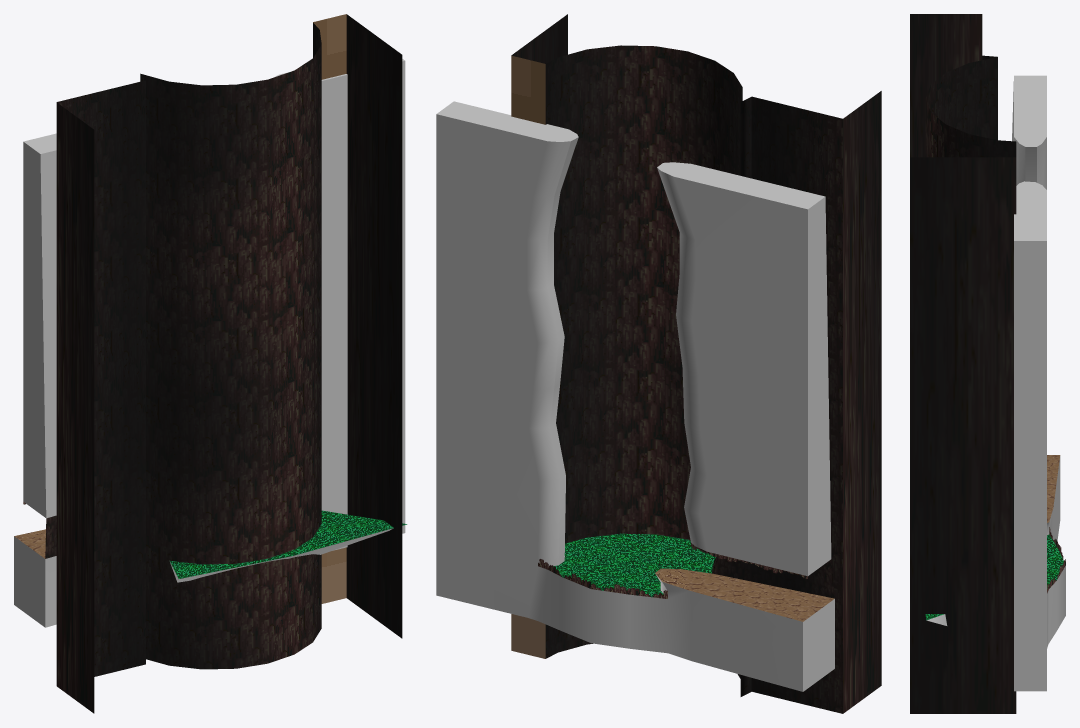
File: Area01_Room01.fbx
3 views of the same model, side by side, from view 1: azimuth 30°, elevation 25°; view 2: azimuth 150°, elevation 25°; view 3: azimuth 270°, elevation 25° (orthographic). The views are drawn at different scales.
Visible parts, largest first — view 1: polySurface308; view 2: polySurface308; view 3: polySurface308.
Part boxes in pixels (bbox=[...]): polySurface308: bbox=[14, 14, 407, 713]; polySurface308: bbox=[436, 14, 881, 713]; polySurface308: bbox=[910, 14, 1065, 713].
Bounding box in the file's own units: 12.29 × 18.7 × 4.74.
